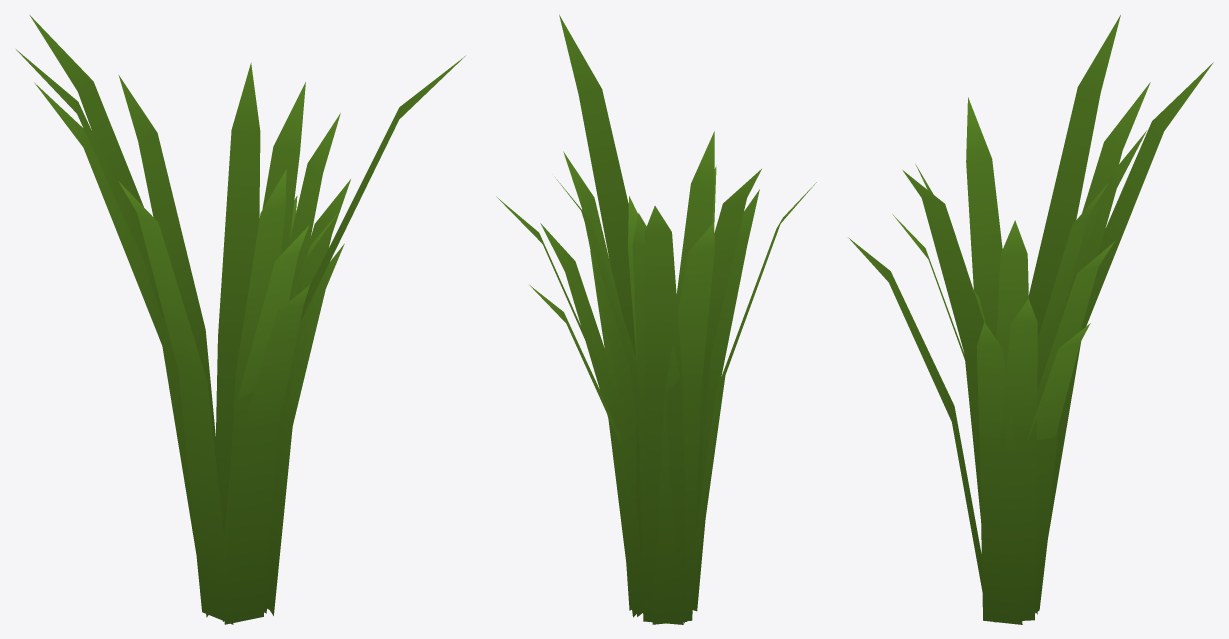
Rendered from rice_green.glb.
3 views of the same model, side by side, from view 1: azimuth 30°, elevation 25°; view 2: azimuth 150°, elevation 25°; view 3: azimuth 270°, elevation 25° (orthographic). The views are drawn at different scales.
Visible parts, largest first — view 1: rice_green; view 2: rice_green; view 3: rice_green.
Boxes of the visible parts, bbox=[...] form: rice_green: bbox=[16, 15, 465, 624]; rice_green: bbox=[496, 14, 816, 624]; rice_green: bbox=[848, 15, 1213, 624].
Size of the model in its own units: 0.5325 by 0.8496 by 0.5414.
